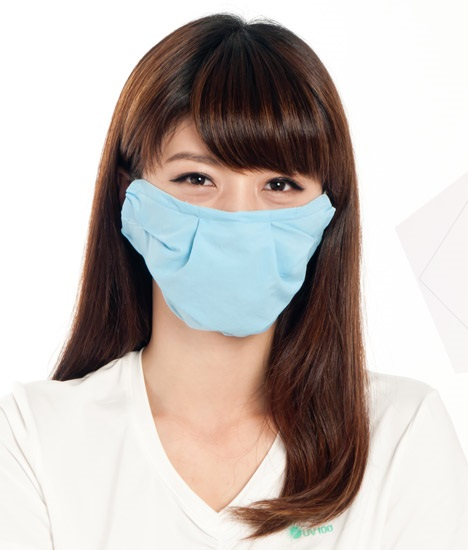face_mask: (141, 82, 322, 331)
